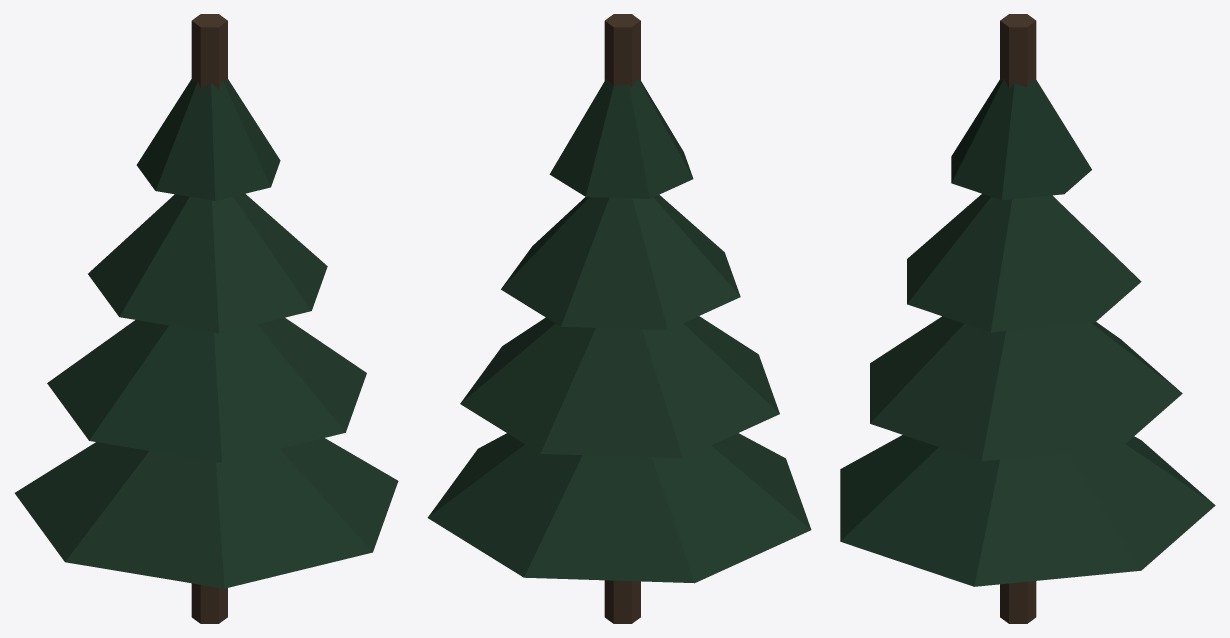
File: spruce_dense.glb
3 views of the same model, side by side, from view 1: azimuth 30°, elevation 25°; view 2: azimuth 150°, elevation 25°; view 3: azimuth 270°, elevation 25° (orthographic).
Parts seen in each view (by area): view 1: SpruceDense; view 2: SpruceDense; view 3: SpruceDense.
Boxes of the visible parts, x1=… form: SpruceDense: x1=14, y1=14, x2=398, y2=623; SpruceDense: x1=427, y1=14, x2=811, y2=623; SpruceDense: x1=840, y1=14, x2=1215, y2=623.
Size of the model in its own units: 4.68 by 8 by 4.56.
